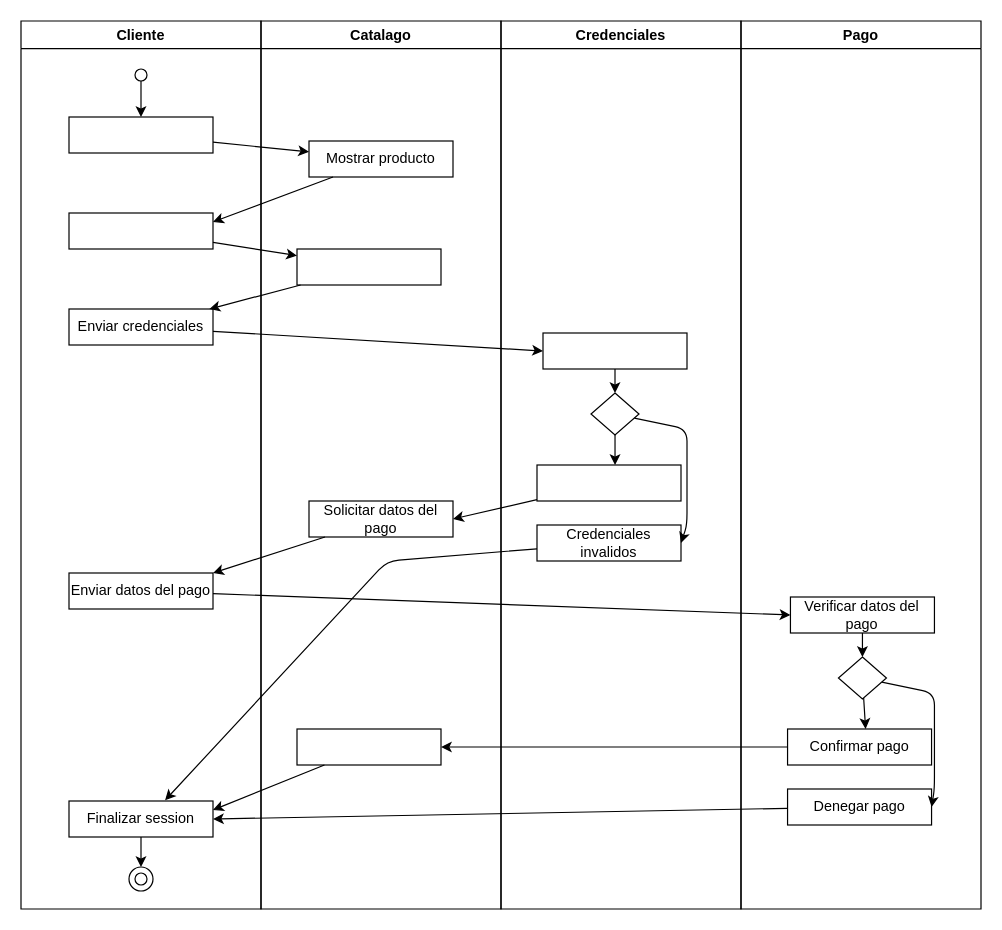
Image size: 1002x930. Some labels were removed from this diagram. Here are the shapes that lost their labels. From the top down, the box of each, then its label:
(68, 116, 213, 153): Buscar producto
(68, 212, 213, 249): Realizar compra
(296, 248, 441, 285): Solicitar credenciales
(542, 332, 687, 369): Verificar credenciales
(536, 464, 681, 501): Credenciales validos
(296, 728, 441, 765): Finalizar compra
